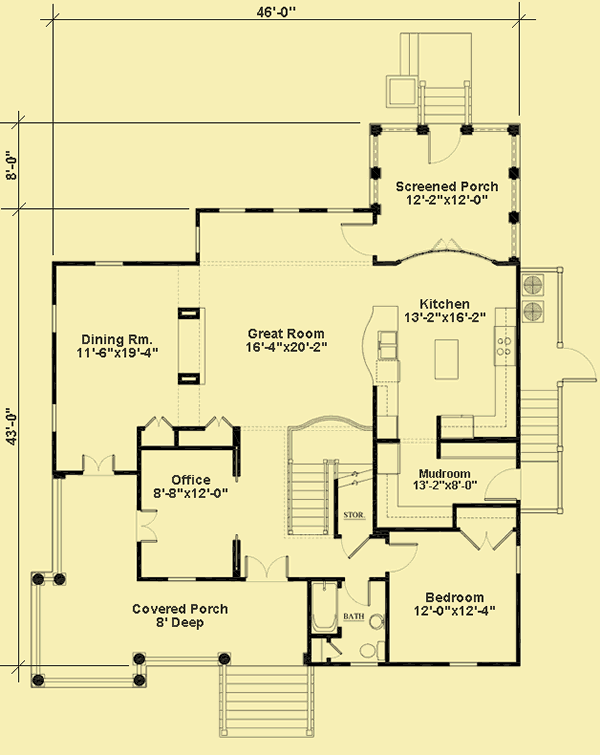door: (554, 344, 598, 384), (336, 218, 380, 257), (426, 124, 465, 166), (459, 528, 515, 555), (479, 464, 519, 501), (242, 555, 291, 583), (387, 540, 420, 576), (343, 574, 373, 610), (134, 505, 159, 547), (79, 451, 119, 476), (339, 534, 372, 559), (141, 410, 175, 430), (203, 414, 232, 430)
kitchen_bar: (359, 303, 405, 393)
large_sink: (353, 636, 388, 663)
stairs: (285, 415, 372, 540), (219, 661, 314, 737), (517, 381, 567, 518), (418, 78, 475, 127)
tub: (311, 582, 340, 637)
window: (91, 258, 127, 271), (265, 203, 301, 216), (49, 403, 61, 441), (48, 301, 59, 336), (217, 206, 250, 216), (194, 217, 202, 254)
